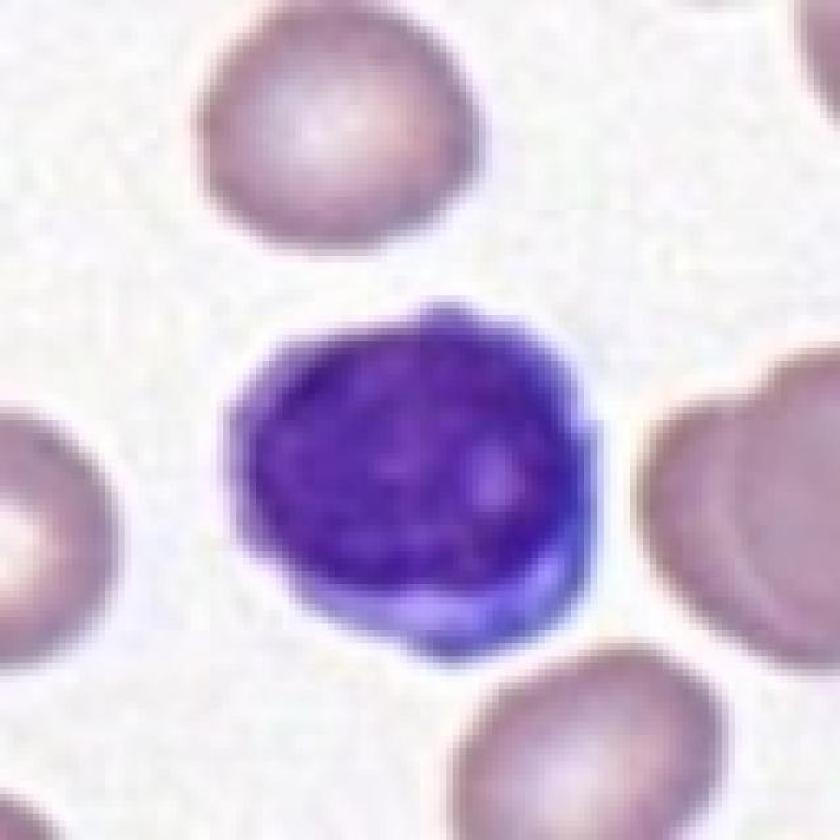lymphocyte: (216, 292, 609, 668)
